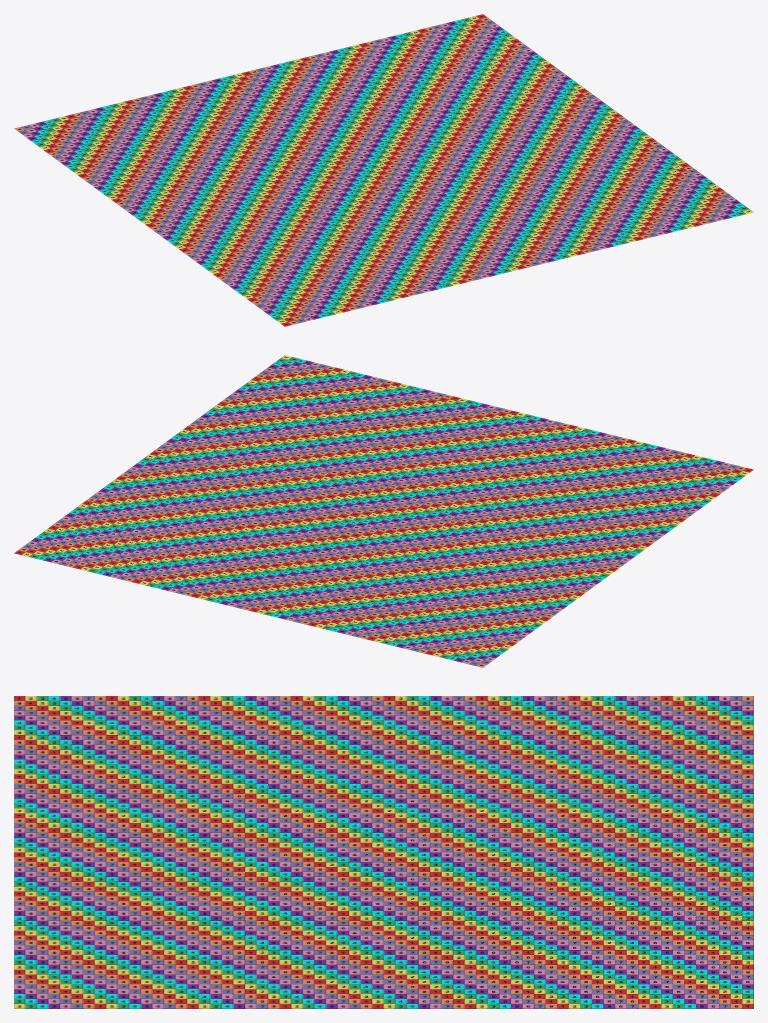
The model's file is watertess_top_leftcorner.fbx.
The picture shows the model from 3 angles, top to bottom: view 1: azimuth 30°, elevation 25°; view 2: azimuth 150°, elevation 25°; view 3: azimuth 270°, elevation 25°; orthographic projection. The views are drawn at different scales.
Visible parts, largest first — view 1: top_leftcorner_f; view 2: top_leftcorner_f; view 3: top_leftcorner_f.
Boxes of the visible parts, x1,y1,x2,y2 form: top_leftcorner_f: [14, 14, 753, 326]; top_leftcorner_f: [14, 355, 753, 667]; top_leftcorner_f: [14, 696, 753, 1008].
Size of the model in its own units: 512 by 8.34e-05 by 512.
